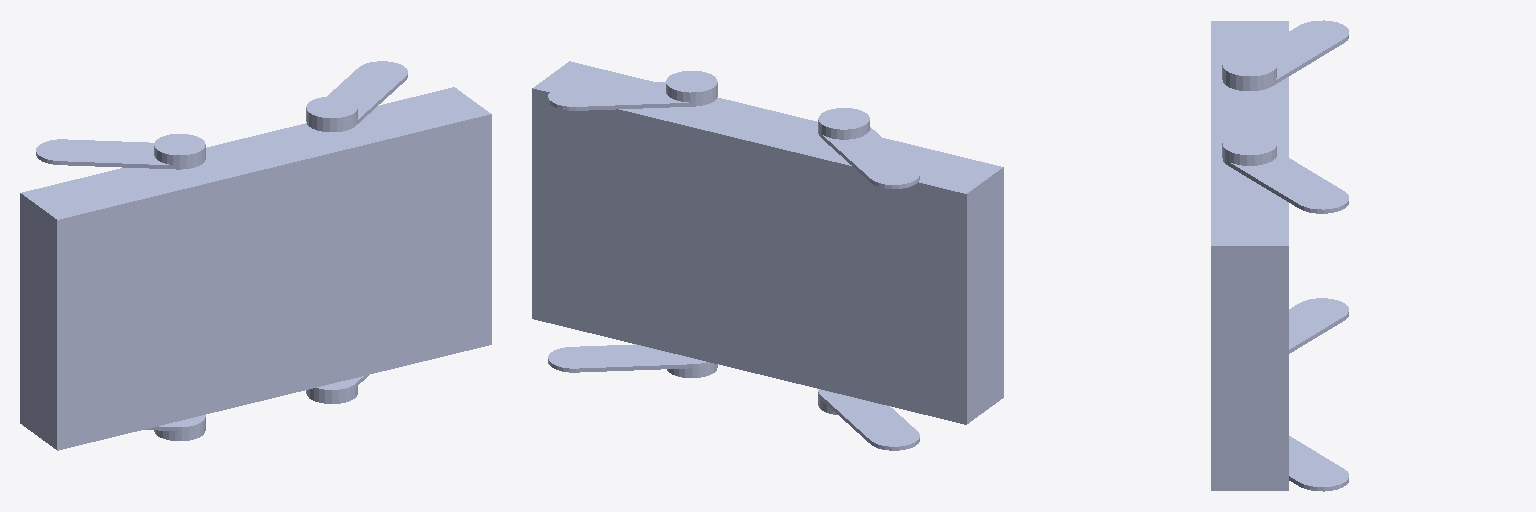
The robot description file, URDF, robot "summit_x_nowheel_test_export":
<robot
  name="summit_x_nowheel_test_export">
  <link
    name="chassis">
    <inertial>
      <origin
        xyz="0 0 0"
        rpy="0 0 0" />
      <mass
        value="23.289" />
      <inertia
        ixx="0.24907"
        ixy="0"
        ixz="0"
        iyy="0.9089"
        iyz="2.4467E-18"
        izz="1.1192" />
    </inertial>
    <visual>
      <origin
        xyz="0 0 0"
        rpy="0 0 0" />
      <geometry>
        <mesh
          filename="package://summit_x_nowheel_test_export/meshes/chassis.STL" />
      </geometry>
      <material
        name="">
        <color
          rgba="0.79216 0.81961 0.93333 1" />
      </material>
    </visual>
    <collision>
      <origin
        xyz="0 0 0"
        rpy="0 0 0" />
      <geometry>
        <mesh
          filename="package://summit_x_nowheel_test_export/meshes/chassis.STL" />
      </geometry>
    </collision>
  </link>
  <link
    name="LF_suspension_link">
    <inertial>
      <origin
        xyz="0.039975 -0.007095 -0.027991"
        rpy="0 0 0" />
      <mass
        value="0.14802" />
      <inertia
        ixx="0.00023638"
        ixy="-2.423E-05"
        ixz="0.00025557"
        iyy="0.00064833"
        iyz="1.6966E-05"
        izz="0.00042242" />
    </inertial>
    <visual>
      <origin
        xyz="0 0 0"
        rpy="0 0 0" />
      <geometry>
        <mesh
          filename="package://summit_x_nowheel_test_export/meshes/LF_suspension_link.STL" />
      </geometry>
      <material
        name="">
        <color
          rgba="0.79216 0.81961 0.93333 1" />
      </material>
    </visual>
    <collision>
      <origin
        xyz="0 0 0"
        rpy="0 0 0" />
      <geometry>
        <mesh
          filename="package://summit_x_nowheel_test_export/meshes/LF_suspension_link.STL" />
      </geometry>
    </collision>
  </link>
  <joint
    name="LF_suspension"
    type="continuous">
    <origin
      xyz="0.11875 0 0.192"
      rpy="-1.5708 9.6896E-17 1.2217" />
    <parent
      link="chassis" />
    <child
      link="LF_suspension_link" />
    <axis
      xyz="0 -1 0" />
    <dynamics
      damping="100000"
      friction="100000" />
  </joint>
  <link
    name="LB_suspension_link">
    <inertial>
      <origin
        xyz="0.039975 -0.007095 -0.027991"
        rpy="0 0 0" />
      <mass
        value="0.14802" />
      <inertia
        ixx="0.00023638"
        ixy="-2.423E-05"
        ixz="0.00025557"
        iyy="0.00064833"
        iyz="1.6966E-05"
        izz="0.00042242" />
    </inertial>
    <visual>
      <origin
        xyz="0 0 0"
        rpy="0 0 0" />
      <geometry>
        <mesh
          filename="package://summit_x_nowheel_test_export/meshes/LB_suspension_link.STL" />
      </geometry>
      <material
        name="">
        <color
          rgba="0.79216 0.81961 0.93333 1" />
      </material>
    </visual>
    <collision>
      <origin
        xyz="0 0 0"
        rpy="0 0 0" />
      <geometry>
        <mesh
          filename="package://summit_x_nowheel_test_export/meshes/LB_suspension_link.STL" />
      </geometry>
    </collision>
  </link>
  <joint
    name="LB_suspension"
    type="continuous">
    <origin
      xyz="-0.11875 0 0.192"
      rpy="-1.5708 0 3.1416" />
    <parent
      link="chassis" />
    <child
      link="LB_suspension_link" />
    <axis
      xyz="0 -1 0" />
    <dynamics
      damping="100000"
      friction="100000" />
  </joint>
  <link
    name="RB_suspension_link">
    <inertial>
      <origin
        xyz="0.039975 -0.007095 -0.027991"
        rpy="0 0 0" />
      <mass
        value="0.14802" />
      <inertia
        ixx="0.00023638"
        ixy="-2.423E-05"
        ixz="0.00025557"
        iyy="0.00064833"
        iyz="1.6966E-05"
        izz="0.00042242" />
    </inertial>
    <visual>
      <origin
        xyz="0 0 0"
        rpy="0 0 0" />
      <geometry>
        <mesh
          filename="package://summit_x_nowheel_test_export/meshes/RB_suspension_link.STL" />
      </geometry>
      <material
        name="">
        <color
          rgba="0.79216 0.81961 0.93333 1" />
      </material>
    </visual>
    <collision>
      <origin
        xyz="0 0 0"
        rpy="0 0 0" />
      <geometry>
        <mesh
          filename="package://summit_x_nowheel_test_export/meshes/RB_suspension_link.STL" />
      </geometry>
    </collision>
  </link>
  <joint
    name="RB_suspension"
    type="continuous">
    <origin
      xyz="-0.11875 0 -0.192"
      rpy="1.5708 1.818E-17 1.9199" />
    <parent
      link="chassis" />
    <child
      link="RB_suspension_link" />
    <axis
      xyz="0 1 0" />
    <dynamics
      damping="100000"
      friction="100000" />
  </joint>
  <link
    name="RF_suspension_link">
    <inertial>
      <origin
        xyz="0.039975 -0.007095 -0.027991"
        rpy="0 0 0" />
      <mass
        value="0.14802" />
      <inertia
        ixx="0.00023638"
        ixy="-2.423E-05"
        ixz="0.00025557"
        iyy="0.00064833"
        iyz="1.6966E-05"
        izz="0.00042242" />
    </inertial>
    <visual>
      <origin
        xyz="0 0 0"
        rpy="0 0 0" />
      <geometry>
        <mesh
          filename="package://summit_x_nowheel_test_export/meshes/RF_suspension_link.STL" />
      </geometry>
      <material
        name="">
        <color
          rgba="0.79216 0.81961 0.93333 1" />
      </material>
    </visual>
    <collision>
      <origin
        xyz="0 0 0"
        rpy="0 0 0" />
      <geometry>
        <mesh
          filename="package://summit_x_nowheel_test_export/meshes/RF_suspension_link.STL" />
      </geometry>
    </collision>
  </link>
  <joint
    name="RF_suspension"
    type="continuous">
    <origin
      xyz="0.11875 0 -0.192"
      rpy="1.5708 0 0" />
    <parent
      link="chassis" />
    <child
      link="RF_suspension_link" />
    <axis
      xyz="0 1 0" />
    <dynamics
      damping="100000"
      friction="100000" />
  </joint>
</robot>

--- Facts derived from the render (not from the file) ---
The picture shows the robot from 3 angles, left to right: view 1: azimuth 30°, elevation 25°; view 2: azimuth 150°, elevation 25°; view 3: azimuth 270°, elevation 25°; orthographic projection.
Model summit_x_nowheel_test_export with 5 links and 4 joints (4 continuous), rooted at chassis, posed all joints at 0.
Visible links, largest first — view 1: chassis, LB_suspension_link, LF_suspension_link, RF_suspension_link, RB_suspension_link; view 2: chassis, LF_suspension_link, LB_suspension_link, RF_suspension_link, RB_suspension_link; view 3: chassis, LF_suspension_link, LB_suspension_link, RB_suspension_link, RF_suspension_link.
Boxes of the visible links, left/top/right/bottom form: chassis: left=20, top=87, right=491, bottom=450; LB_suspension_link: left=36, top=134, right=205, bottom=169; LF_suspension_link: left=306, top=61, right=407, bottom=131; RF_suspension_link: left=306, top=375, right=368, bottom=403; RB_suspension_link: left=145, top=415, right=205, bottom=440; chassis: left=532, top=61, right=1003, bottom=424; LF_suspension_link: left=548, top=71, right=717, bottom=110; LB_suspension_link: left=818, top=108, right=919, bottom=188; RF_suspension_link: left=548, top=344, right=717, bottom=377; RB_suspension_link: left=818, top=389, right=919, bottom=450; chassis: left=1211, top=21, right=1288, bottom=490; LF_suspension_link: left=1222, top=132, right=1348, bottom=213; LB_suspension_link: left=1222, top=20, right=1348, bottom=90; RB_suspension_link: left=1289, top=298, right=1348, bottom=353; RF_suspension_link: left=1289, top=436, right=1348, bottom=491.
Bounding box of the posed robot: 0.677 × 0.1766 × 0.426 m (x, y, z).
Meshes: 5 distinct files referenced, 5 mesh visuals loaded (5 binary STL).